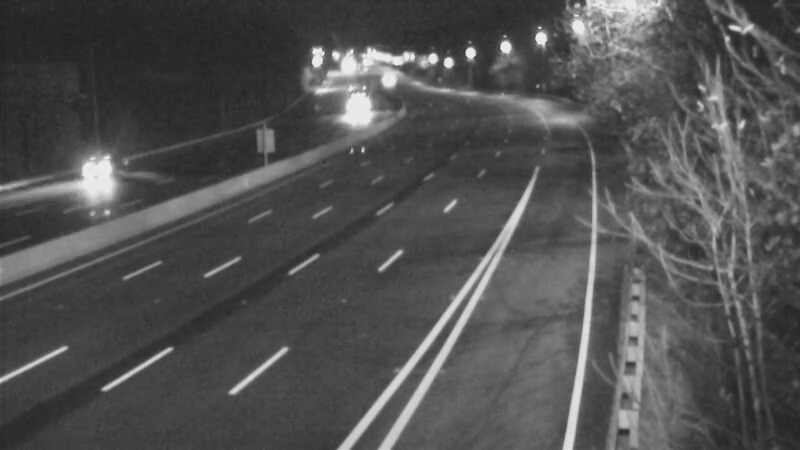vehicle: (53, 134, 133, 214), (359, 54, 409, 104), (329, 89, 379, 139)
